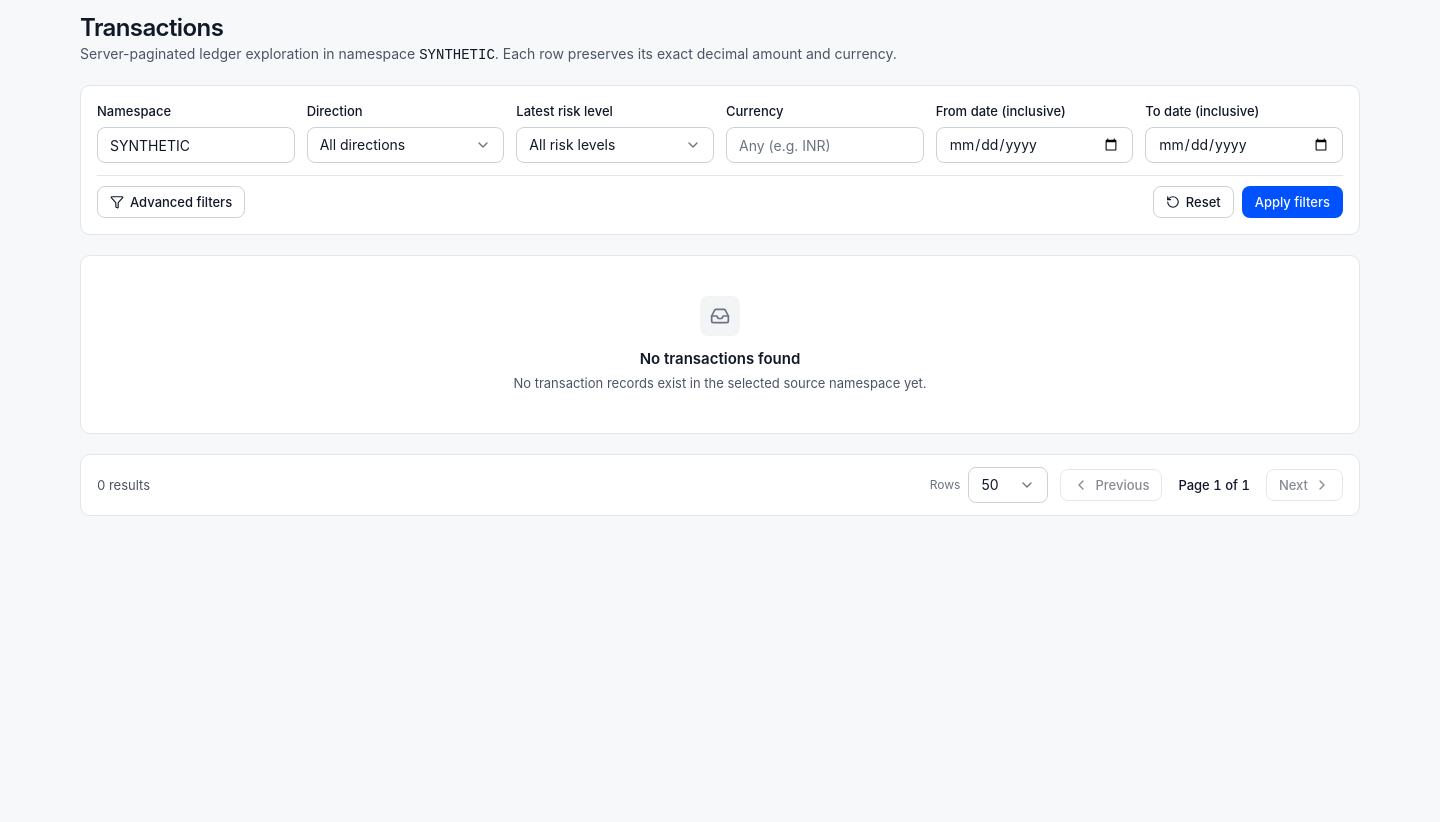
Test: TransactionsListPage (F3.4) › blocks invalid client filter inputs via Zod without dispatching bad API calls
Expected: the heading "No transactions found" is shown, top-left (640, 348), bottom-right (800, 370)
Click the button "Advanced filters" at [171, 202], box top-left (97, 186), bottom-right (245, 218)
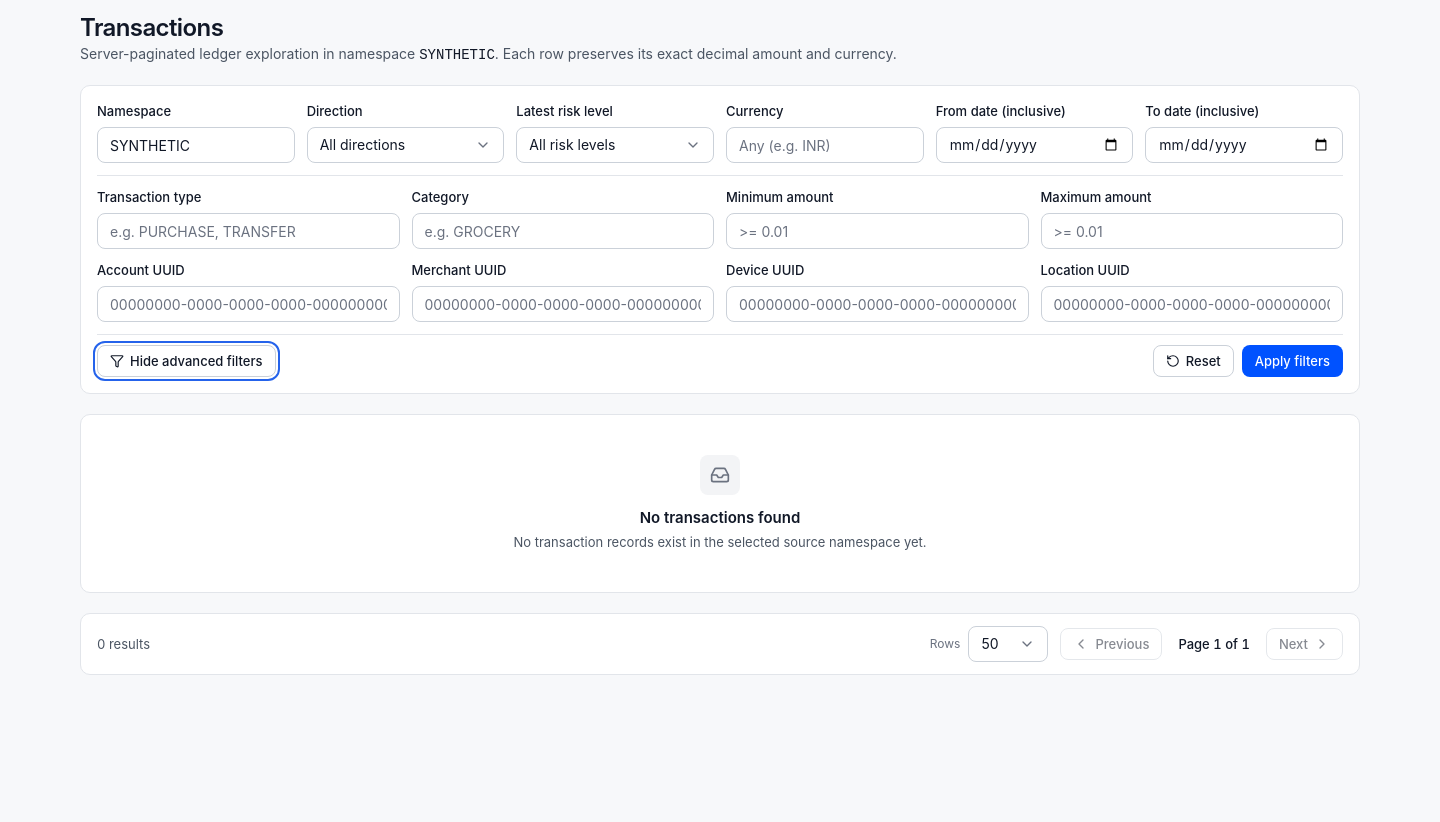
Type "not-a-uuid" into the field labelled "Account UUID" at [248, 304], box top-left (97, 286), bottom-right (400, 322)
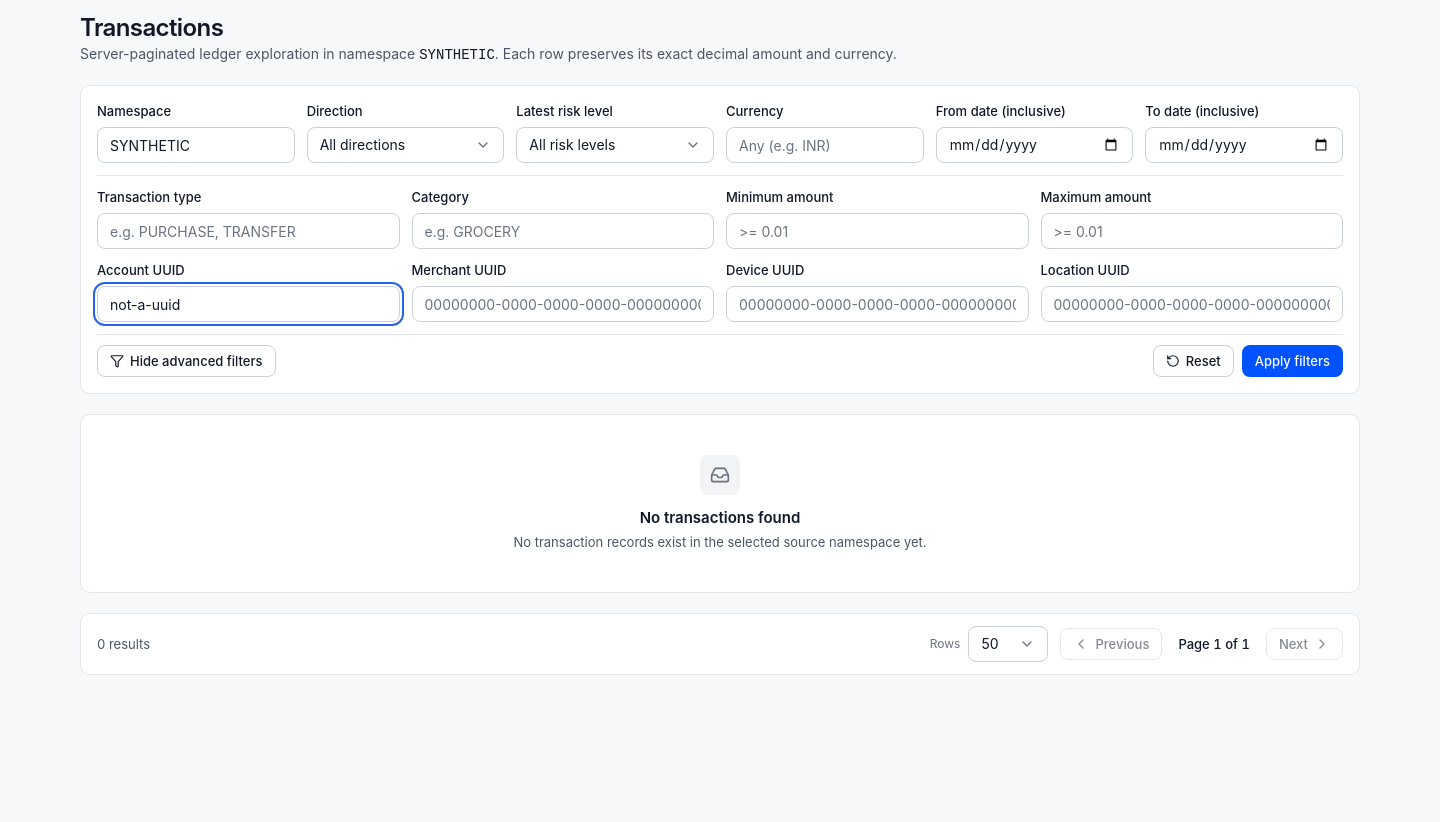
Click the button "Apply filters" at [1292, 361], box top-left (1242, 345), bottom-right (1343, 377)
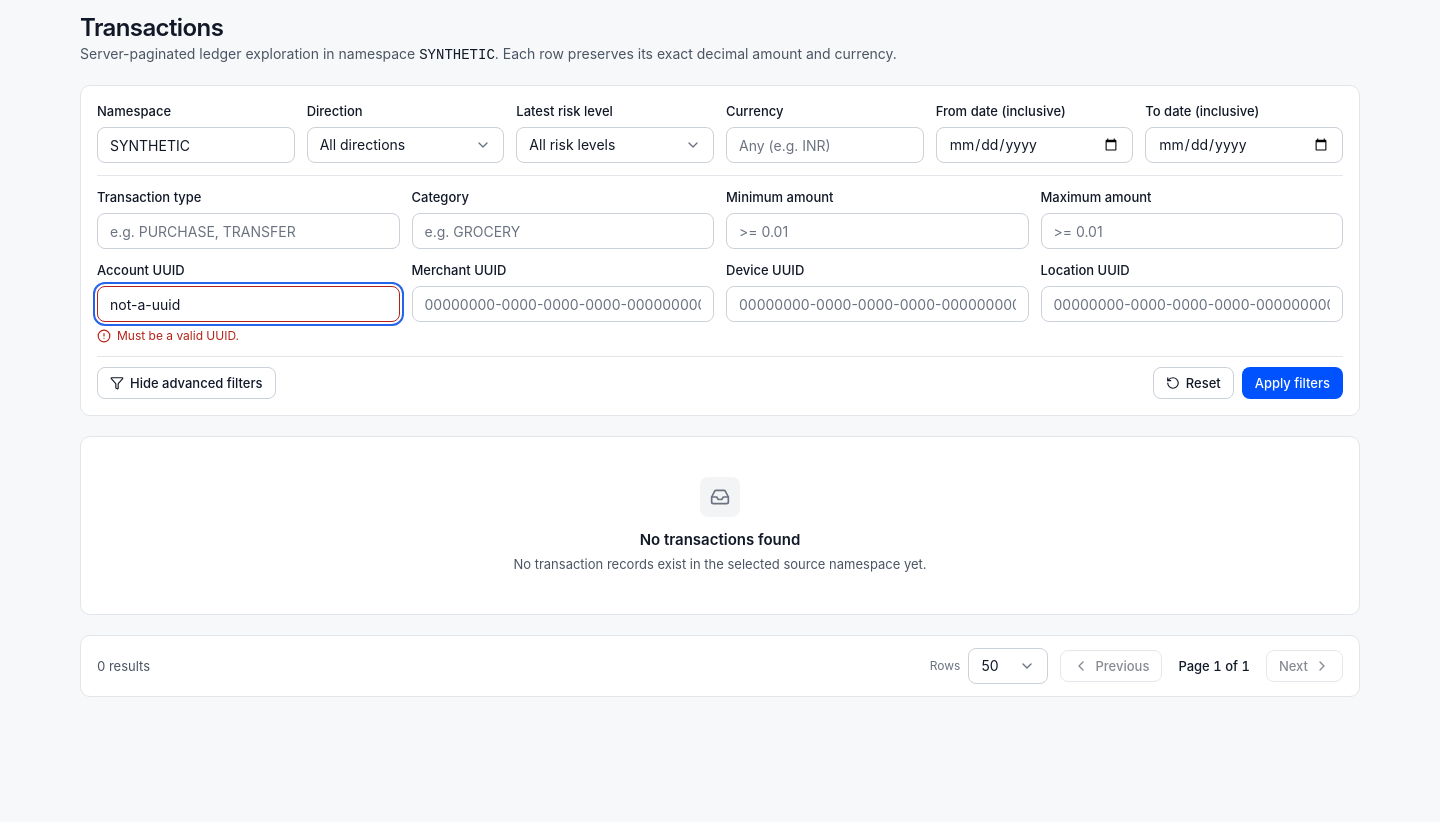
Expected: the text "Must be a valid UUID." is shown, top-left (117, 328), bottom-right (239, 344)
